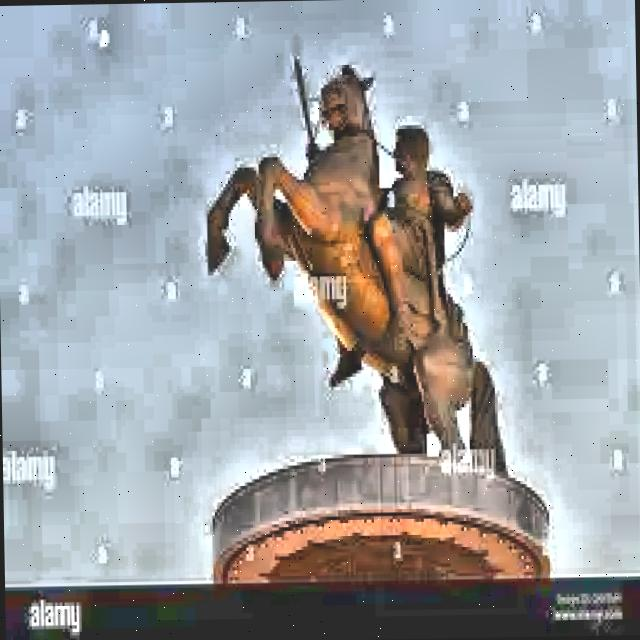alexander the great monument: (196, 38, 556, 590)
